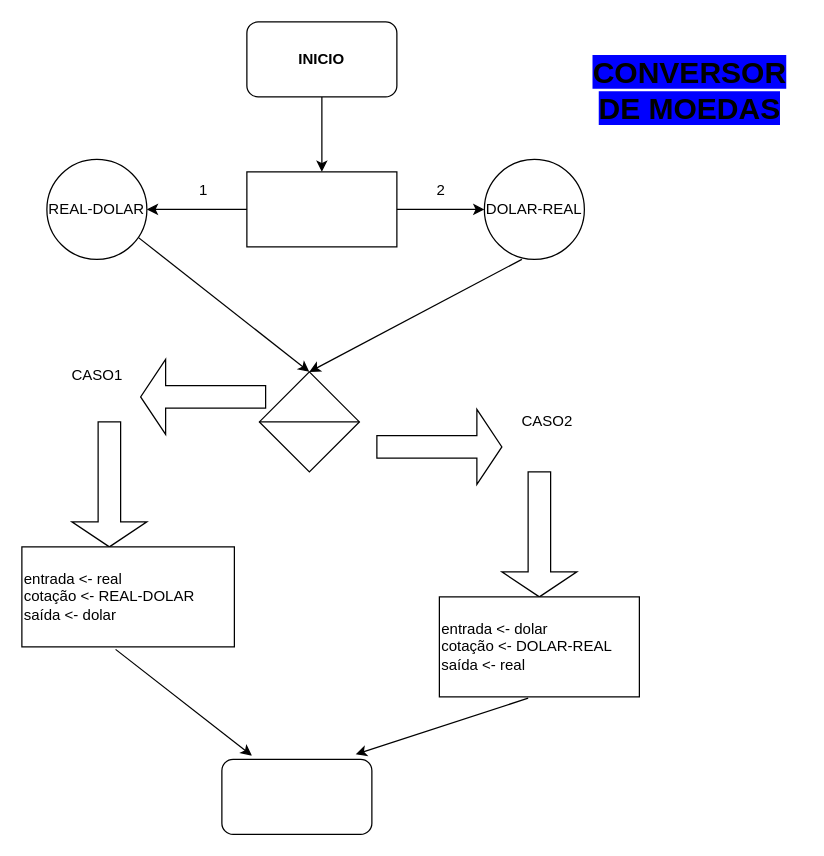
Image size: 824x856. Some labels were removed from this diagram. Each missing label, with the box of its shape:
CASO1 CASO2: (258, 371, 359, 472)
FIM: (221, 758, 372, 834)
qual a conversão?: (246, 171, 397, 247)
